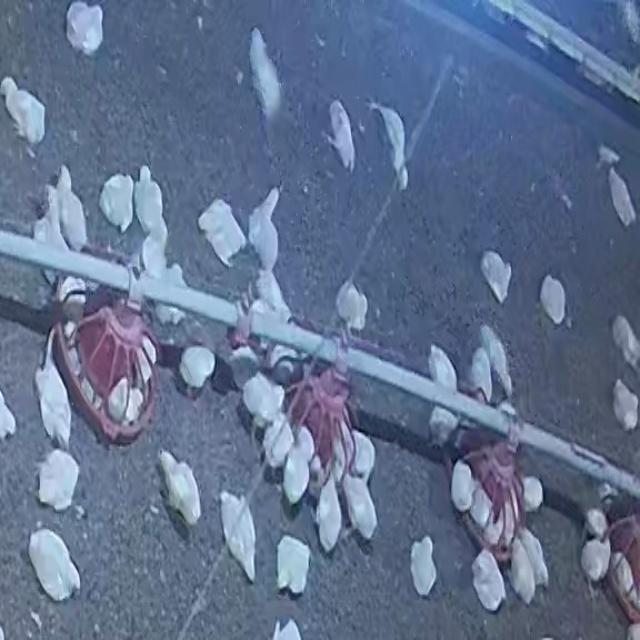chicken: (244, 26, 285, 133), (27, 526, 82, 603), (35, 342, 74, 448), (377, 95, 413, 194), (1, 76, 46, 152), (156, 449, 200, 526), (218, 491, 256, 578), (35, 446, 82, 513), (33, 187, 65, 284), (341, 471, 381, 544), (56, 165, 89, 252), (196, 200, 244, 259), (248, 188, 281, 273), (281, 423, 315, 505), (134, 165, 168, 245), (325, 95, 357, 178), (478, 323, 511, 399), (52, 272, 89, 338), (470, 548, 507, 611), (315, 481, 346, 555), (275, 534, 312, 595), (98, 173, 136, 231), (605, 166, 637, 232), (66, 1, 104, 56), (241, 381, 284, 427), (506, 533, 531, 604), (479, 251, 512, 304), (611, 314, 640, 374), (409, 536, 437, 598), (335, 279, 368, 331), (179, 345, 216, 391), (259, 413, 289, 469), (524, 529, 551, 591), (614, 548, 640, 612), (446, 461, 476, 516), (102, 387, 142, 427), (157, 261, 186, 316), (612, 377, 640, 431), (580, 535, 612, 582), (468, 345, 493, 404), (353, 425, 379, 481), (536, 274, 566, 321), (427, 345, 457, 389), (422, 410, 455, 449), (135, 335, 157, 388), (489, 507, 516, 543), (582, 508, 613, 537), (518, 482, 544, 515), (471, 484, 488, 527)
